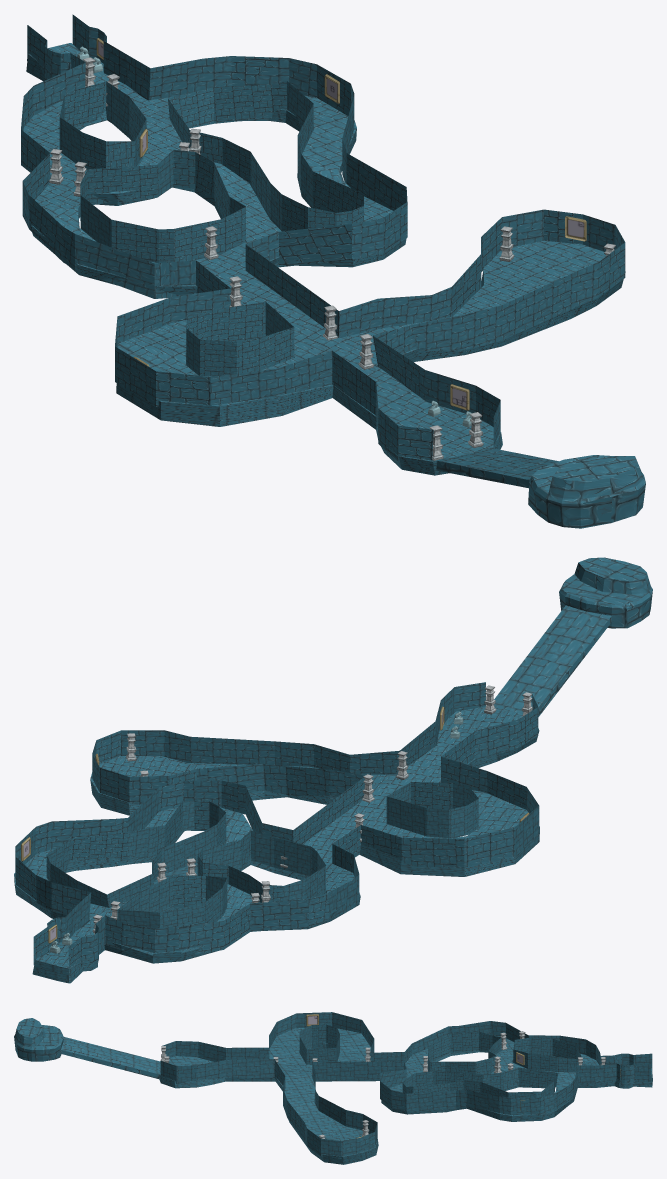
File: 山洞內.fbx
The picture shows the model from 3 angles, top to bottom: view 1: azimuth 30°, elevation 25°; view 2: azimuth 150°, elevation 25°; view 3: azimuth 270°, elevation 25°; orthographic projection. The views are drawn at different scales.
Parts seen in each view (by area): view 1: 外圈背景, 場景, 內圈背景, 出口; view 2: 外圈背景, 內圈背景, 場景, 出口; view 3: 外圈背景, 場景, 內圈背景, 出口.
Part boxes in pixels (x1,y1,x2,y2): 外圈背景: [21, 14, 625, 461]; 場景: [23, 43, 625, 475]; 內圈背景: [59, 81, 363, 376]; 出口: [436, 448, 645, 528]; 外圈背景: [15, 682, 539, 974]; 內圈背景: [46, 782, 478, 928]; 場景: [14, 706, 539, 983]; 出口: [494, 557, 652, 716]; 外圈背景: [160, 1012, 652, 1158]; 場景: [159, 1028, 652, 1164]; 內圈背景: [299, 1024, 582, 1097]; 出口: [14, 1018, 160, 1079].
Size of the model in its own units: 27540 by 5941 by 59662.
Materials: 13 (13 with a texture image).
